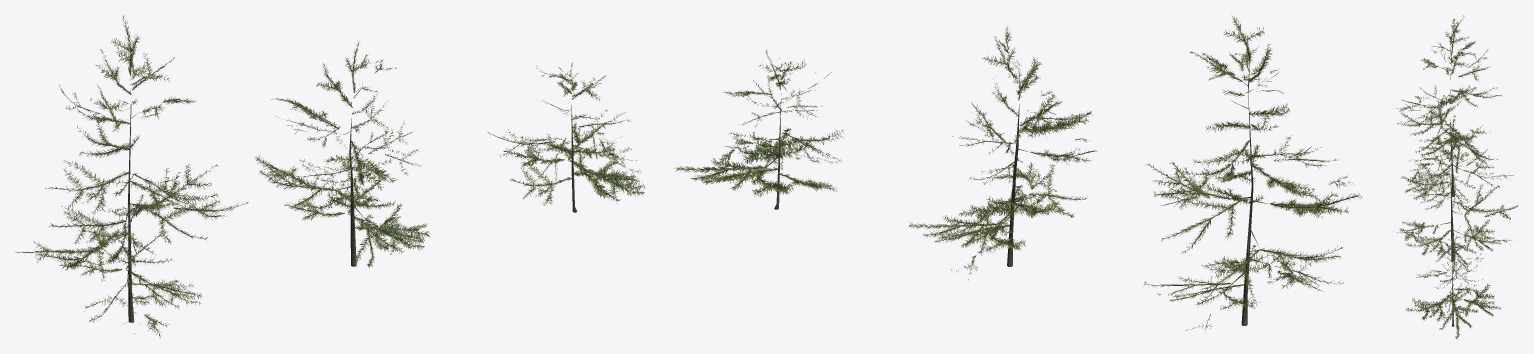
File: forest_hero_tree_f.glb
The picture shows the model from 3 angles, left to right: view 1: azimuth 30°, elevation 25°; view 2: azimuth 150°, elevation 25°; view 3: azimuth 270°, elevation 25°; orthographic projection. The views are drawn at different scales.
Parts seen in each view (by area): view 1: fir_sapling_a, fir_sapling_b, fir_sapling_c; view 2: fir_sapling_a, fir_sapling_b, fir_sapling_c; view 3: fir_sapling_a, fir_sapling_b, fir_sapling_c.
Boxes of the visible parts, bbox=[...] form: fir_sapling_a: bbox=[15, 15, 248, 337]; fir_sapling_b: bbox=[255, 40, 430, 268]; fir_sapling_c: bbox=[487, 62, 645, 212]; fir_sapling_a: bbox=[1143, 16, 1361, 331]; fir_sapling_b: bbox=[908, 26, 1096, 280]; fir_sapling_c: bbox=[674, 49, 843, 209]; fir_sapling_a: bbox=[1396, 15, 1513, 207]; fir_sapling_b: bbox=[1393, 129, 1518, 273]; fir_sapling_c: bbox=[1406, 226, 1500, 339].
Size of the model in its own units: 2.74 by 1.3 by 0.8166.
Materials: 2 (2 with a texture image).
